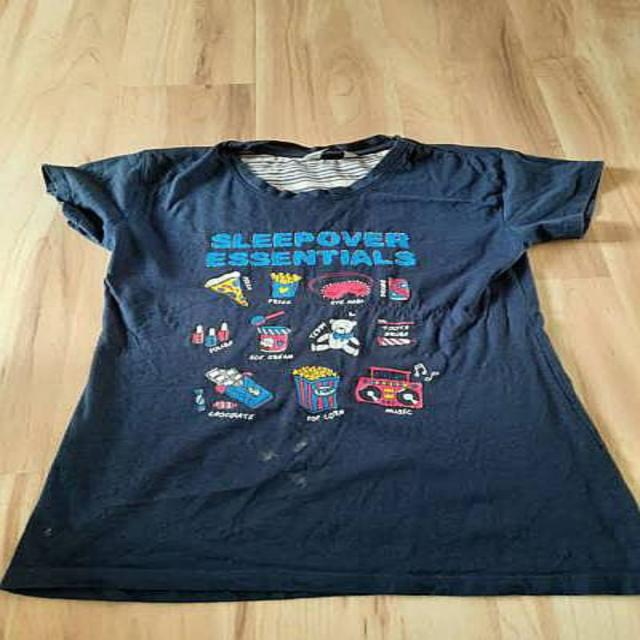T_SHIRT: (3, 130, 640, 620)
